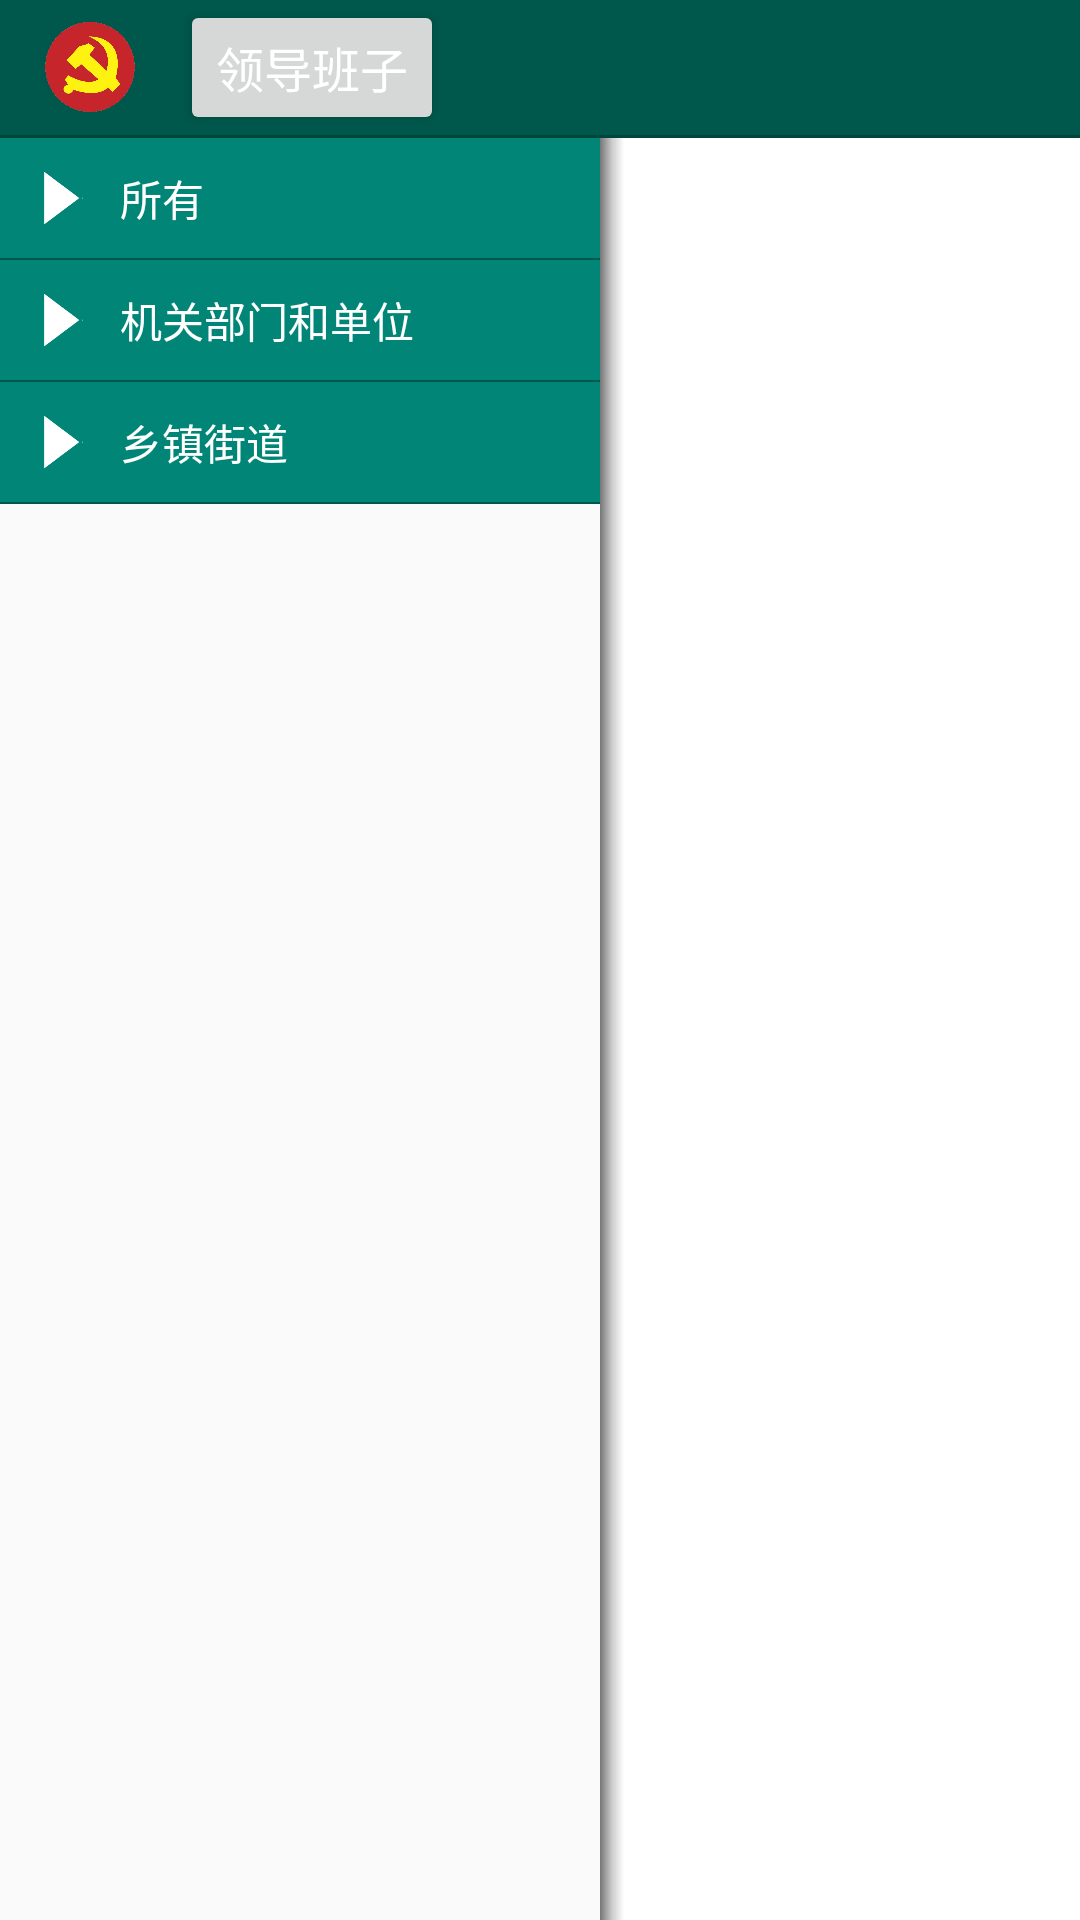

Locate icon controls on the screen. Image size 1080 × 1920, boxes as (x1, y1, x2, y2).
jiantou: (44, 172, 83, 224), (44, 294, 83, 346), (44, 416, 83, 468)
